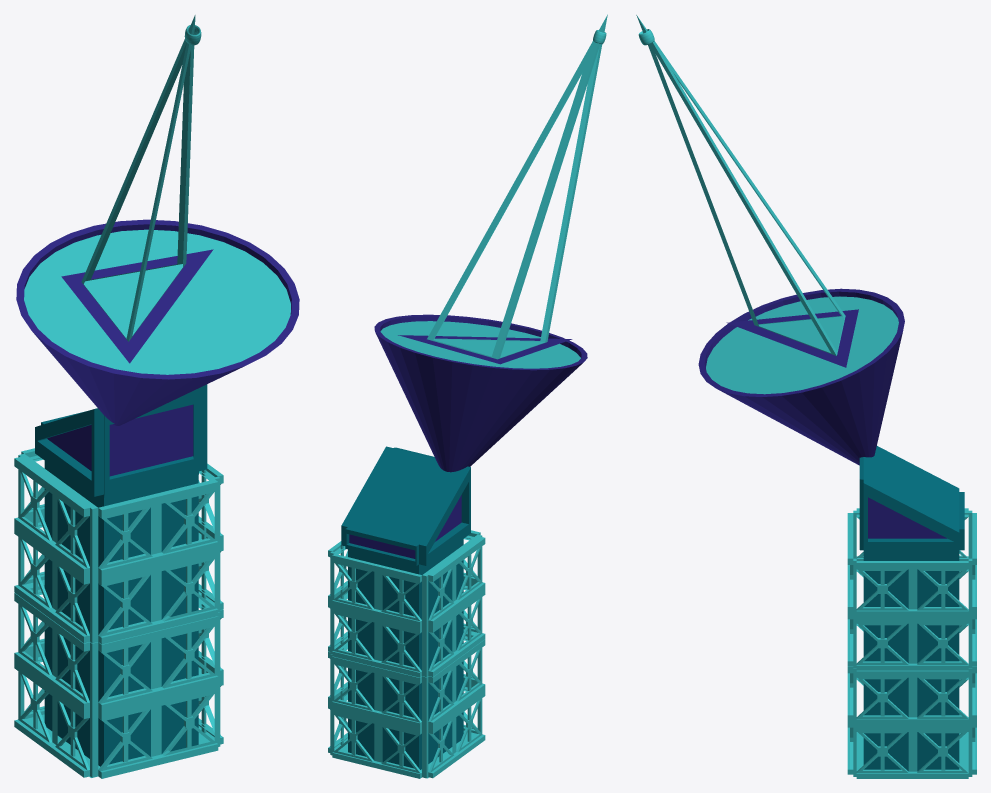
Rendered from Antenatest.fbx.
3 views of the same model, side by side, from view 1: azimuth 30°, elevation 25°; view 2: azimuth 150°, elevation 25°; view 3: azimuth 270°, elevation 25° (orthographic). The views are drawn at different scales.
Visible parts, largest first — view 1: Cube.003, Cone, Cube.002, Cube.005; view 2: Cube.003, Cube.002, Cone, Cube.005; view 3: Cone, Cube.003, Cube.002, Cube.005.
Part boxes in pixels (box(x1,y1,x2,y2)): Cube.003: box(14, 448, 223, 778); Cone: box(16, 219, 299, 425); Cube.002: box(35, 384, 207, 766); Cube.005: box(61, 15, 213, 363); Cube.003: box(328, 530, 485, 778); Cube.002: box(341, 446, 470, 769); Cone: box(374, 314, 587, 472); Cube.005: box(398, 14, 607, 364); Cone: box(698, 288, 904, 465); Cube.003: box(847, 508, 976, 778); Cube.002: box(859, 446, 964, 771); Cube.005: box(636, 15, 858, 367).
Size of the model in its own units: 1527 by 5040 by 2212.
